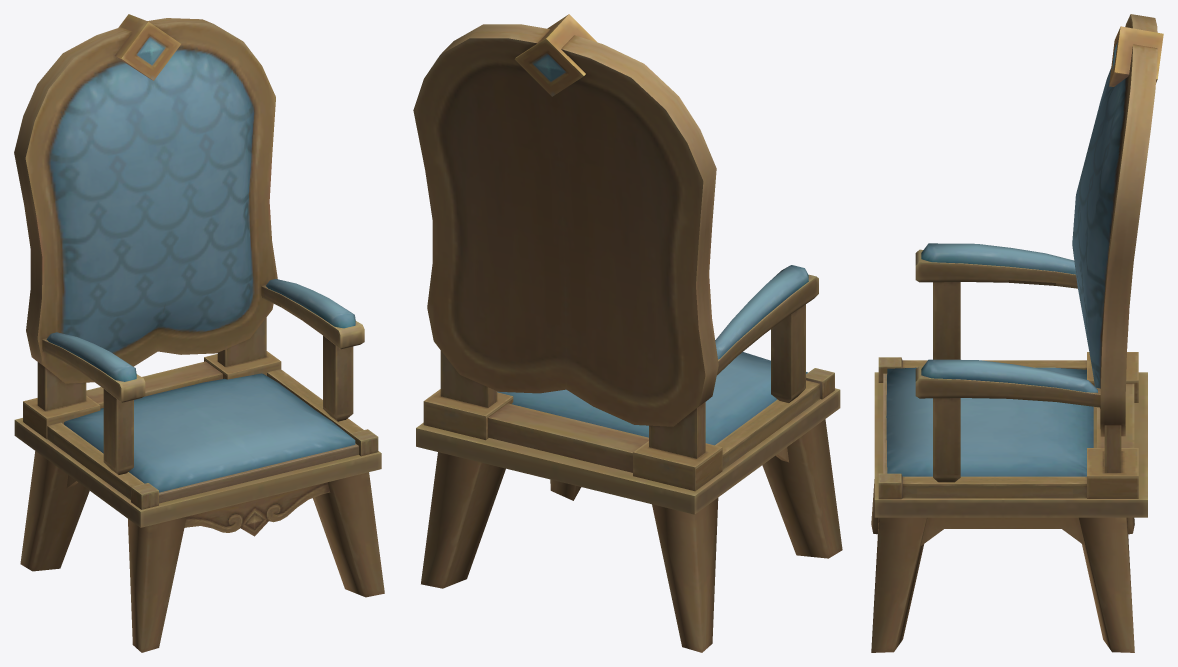
The model's file is Homeworld_Interior_Fd_Chair_Prop_BlueYizi_01_Vo.fbx.
3 views of the same model, side by side, from view 1: azimuth 30°, elevation 25°; view 2: azimuth 150°, elevation 25°; view 3: azimuth 270°, elevation 25° (orthographic). The views are drawn at different scales.
Parts seen in each view (by area): view 1: Indoor_Fd_Prop_Chair_A_02_Vo; view 2: Indoor_Fd_Prop_Chair_A_02_Vo; view 3: Indoor_Fd_Prop_Chair_A_02_Vo.
Part boxes in pixels (bbox=[...]): Indoor_Fd_Prop_Chair_A_02_Vo: bbox=[14, 14, 384, 652]; Indoor_Fd_Prop_Chair_A_02_Vo: bbox=[413, 14, 842, 652]; Indoor_Fd_Prop_Chair_A_02_Vo: bbox=[871, 14, 1163, 652].
Bounding box in the file's own units: 0.801 × 1.58 × 0.7454.
